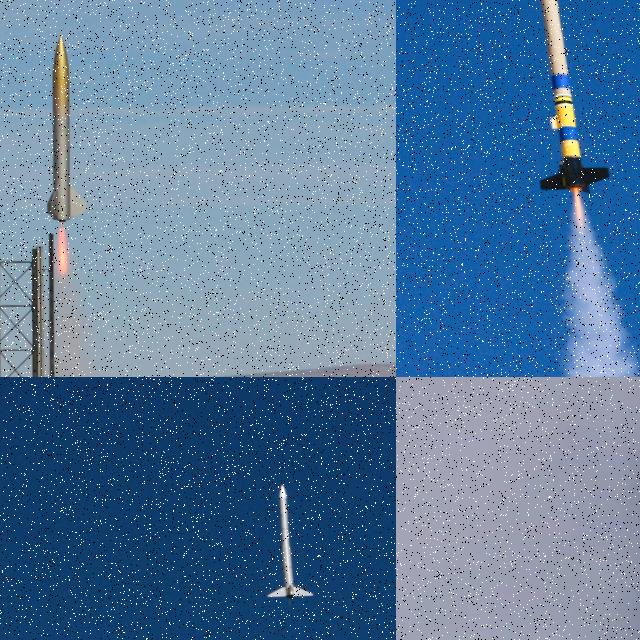Rocket: (519, 0, 613, 196), (44, 34, 89, 223), (265, 483, 315, 602)
